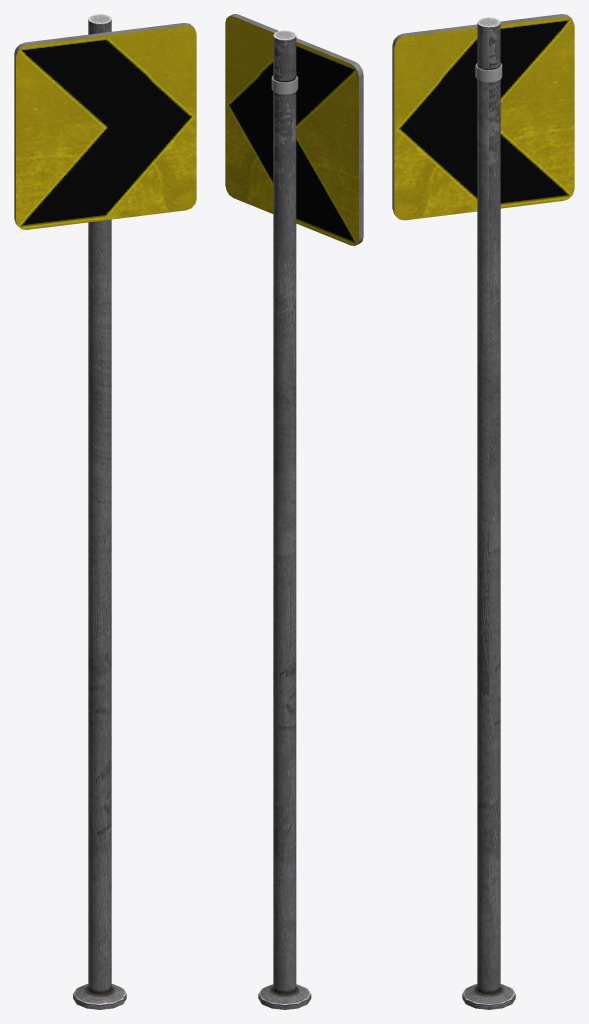
File: PW_Road_Sign_12.fbx
The picture shows the model from 3 angles, left to right: view 1: azimuth 90°, elevation 25°; view 2: azimuth 210°, elevation 25°; view 3: azimuth 270°, elevation 25°; orthographic projection.
Parts seen in each view (by area): view 1: PW_Road_Sign_12_LOD0; view 2: PW_Road_Sign_12_LOD0; view 3: PW_Road_Sign_12_LOD0.
Part boxes in pixels (x1,y1,x2,y2): PW_Road_Sign_12_LOD0: [14, 14, 196, 1009]; PW_Road_Sign_12_LOD0: [225, 14, 363, 1009]; PW_Road_Sign_12_LOD0: [392, 14, 574, 1009].
Size of what is drawn, in the model's own units: 14.52 by 221 by 37.38.
